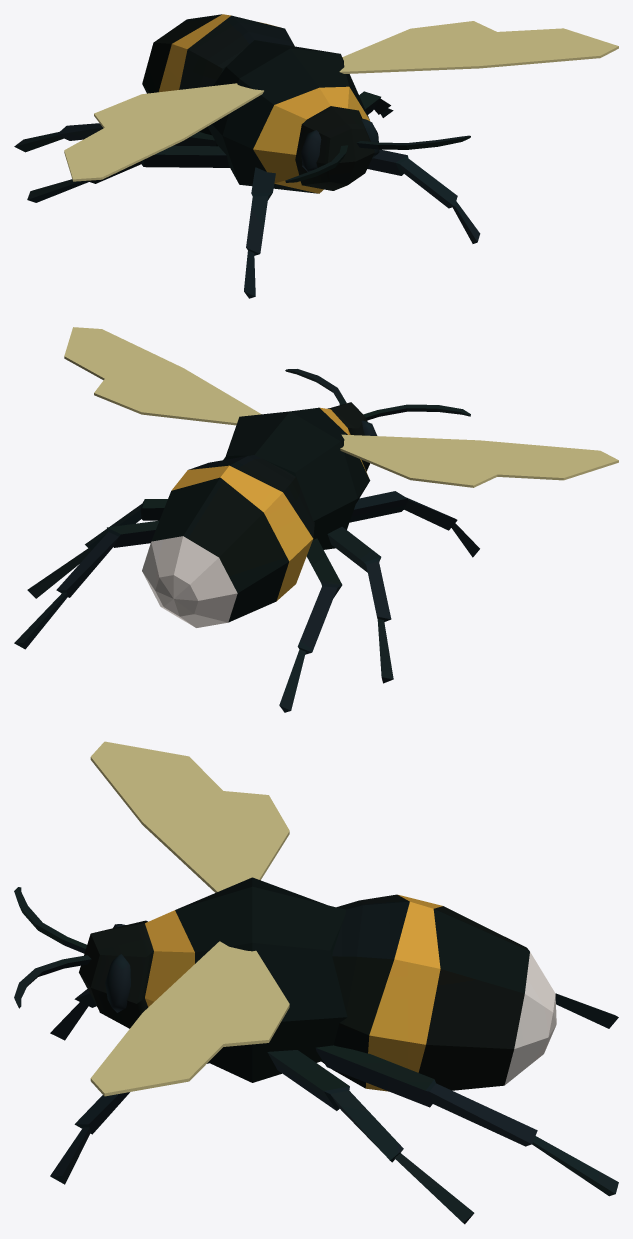
3 renders of one model, top to bottom at view 1: azimuth 30°, elevation 25°; view 2: azimuth 150°, elevation 25°; view 3: azimuth 270°, elevation 25°, orthographic. The views are drawn at different scales.
Parts seen in each view (by area): view 1: Geo_Bumblebee; view 2: Geo_Bumblebee; view 3: Geo_Bumblebee.
Part boxes in pixels (x1,y1,x2,y2): Geo_Bumblebee: [14, 14, 618, 298]; Geo_Bumblebee: [14, 327, 618, 712]; Geo_Bumblebee: [14, 741, 618, 1224].
Size of the model in its own units: 3.34 by 0.9998 by 2.43.
2 materials, 1 textured.
